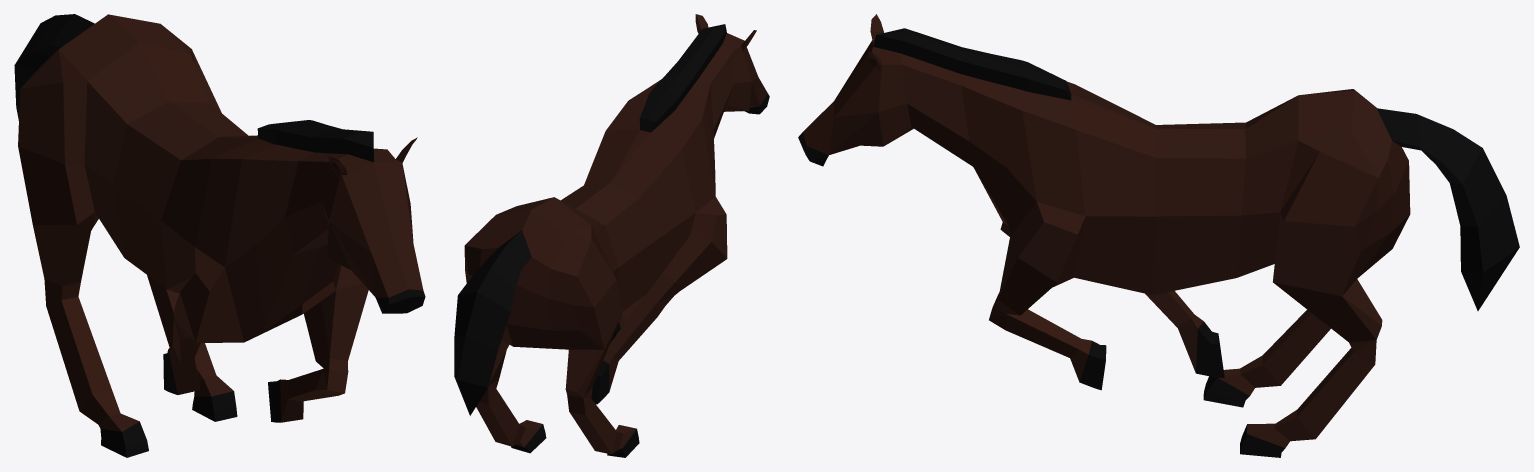
The model's file is Horse_000006.obj.
3 views of the same model, side by side, from view 1: azimuth 30°, elevation 25°; view 2: azimuth 150°, elevation 25°; view 3: azimuth 270°, elevation 25° (orthographic). The views are drawn at different scales.
Visible parts, largest first — view 1: Horse_Cylinder; view 2: Horse_Cylinder; view 3: Horse_Cylinder.
Boxes of the visible parts, <box> form: Horse_Cylinder: <box>14,14,425,457</box>; Horse_Cylinder: <box>454,14,769,457</box>; Horse_Cylinder: <box>798,14,1519,457</box>.
Size of the model in its own units: 2.6 by 6.02 by 9.91.
